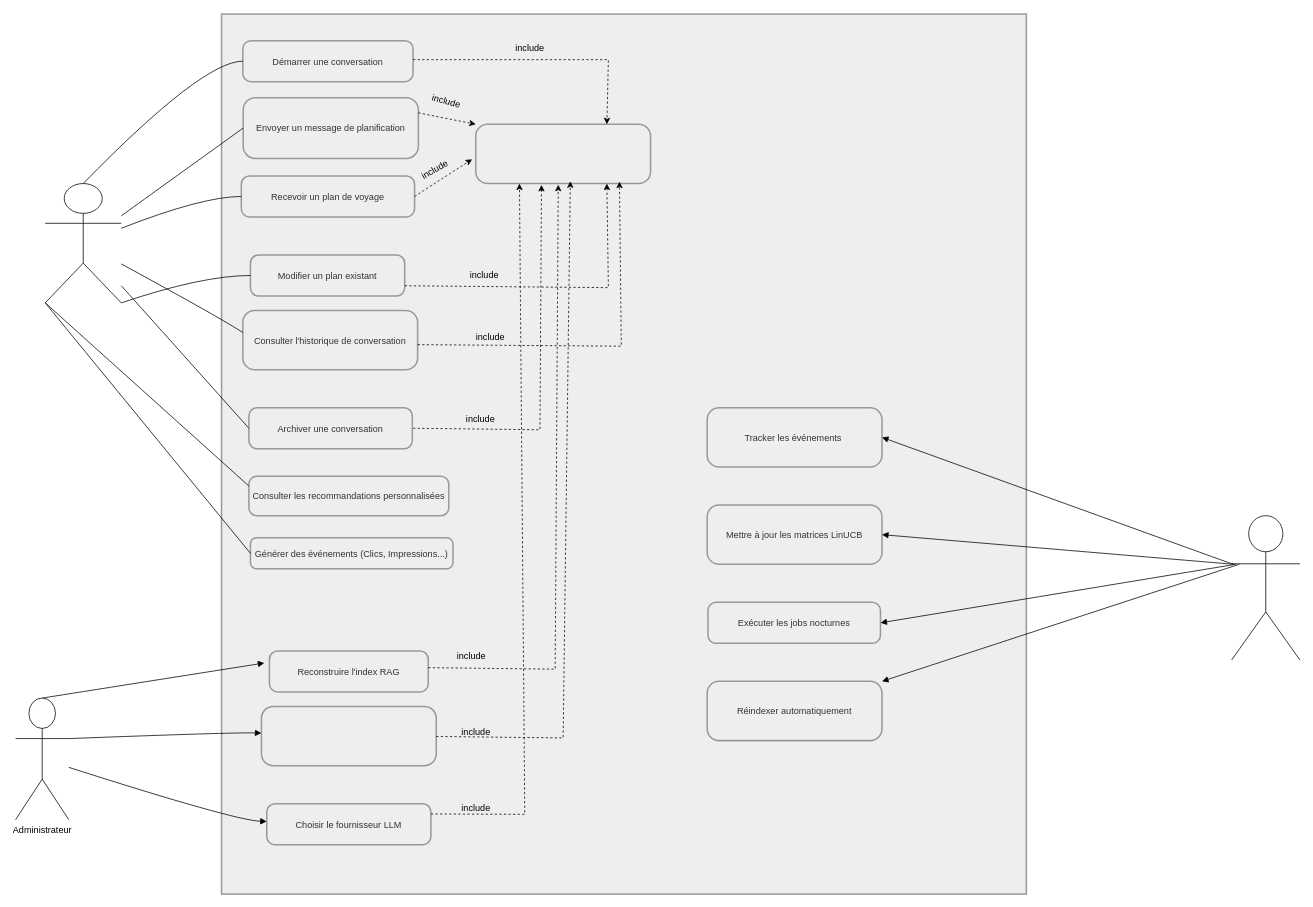
The diagram is 1313 pixels wide and 907 high, and some of its shapes have lost their labels. The shapes that lost their labels are listed below. From the top down, each one's centre as x and y in pixels, then its label:
point (563, 153): Authentification
point (82, 243): Touriste
point (1265, 587): System
point (348, 735): Consulter l'état de santé du système
